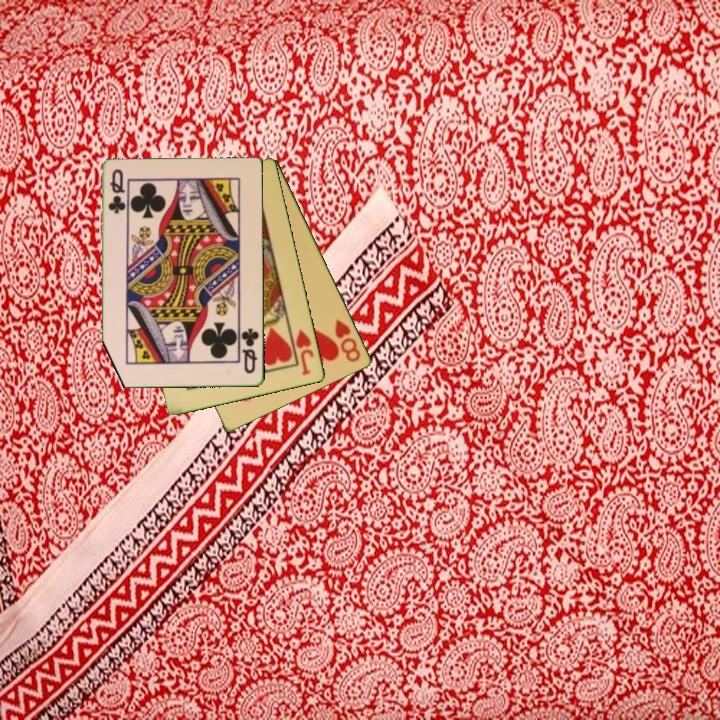8h: (332, 316, 364, 365)
Jh: (287, 324, 317, 378)
Qc: (238, 325, 262, 377), (105, 166, 127, 217)
